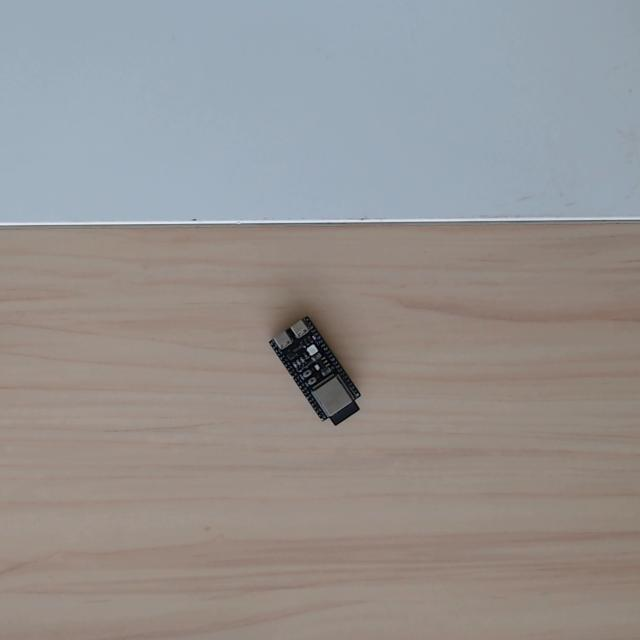ESP32S3-Devkit: (265, 315, 370, 435)
